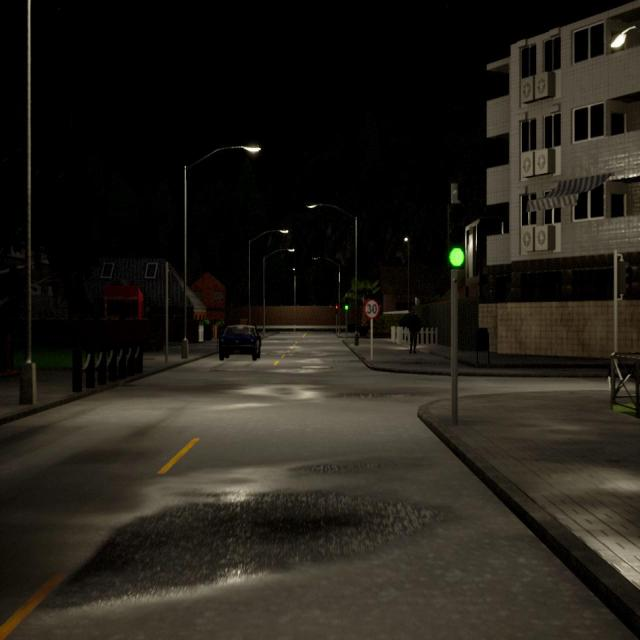Pedestrian: (400, 309, 420, 353)
Traffic_Signs: (364, 300, 380, 318)
Vehicle: (219, 323, 261, 360)
traffic_light: (447, 200, 466, 272), (616, 259, 628, 298), (164, 272, 172, 301), (344, 296, 348, 314), (335, 302, 338, 314)
